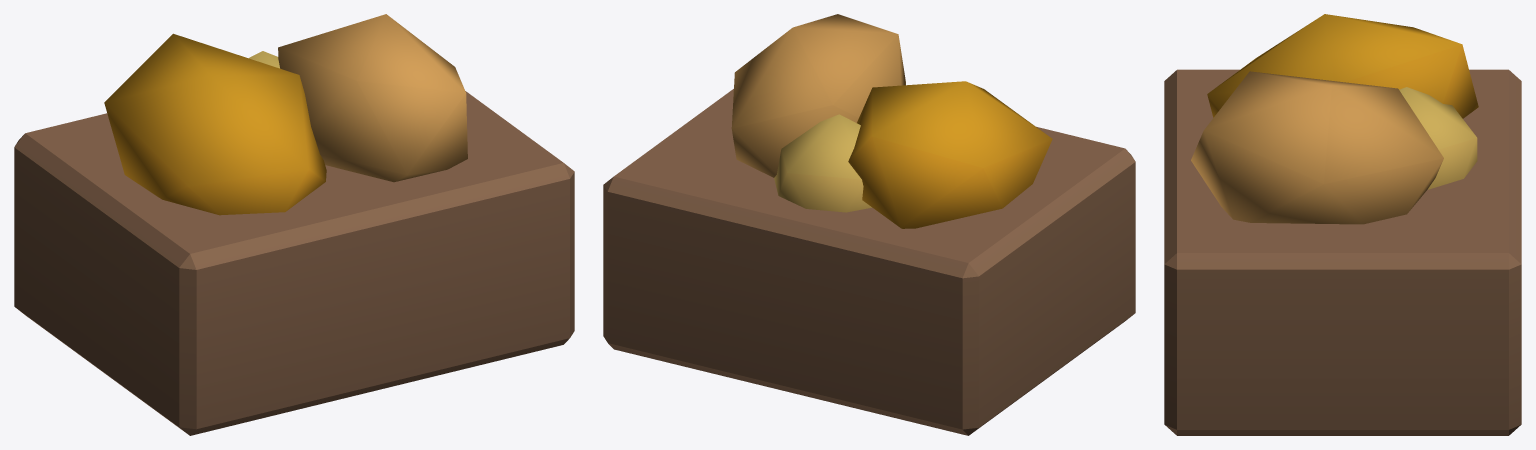
File: bread-crate.glb
The picture shows the model from 3 angles, left to right: view 1: azimuth 30°, elevation 25°; view 2: azimuth 150°, elevation 25°; view 3: azimuth 270°, elevation 25°; orthographic projection. The views are drawn at different scales.
Visible parts, largest first — view 1: bread-crate; view 2: bread-crate; view 3: bread-crate.
Part boxes in pixels (<box>): bread-crate: <box>14,14,574,435</box>; bread-crate: <box>603,14,1135,435</box>; bread-crate: <box>1164,14,1521,435</box>.
Size of the model in its own units: 0.36 by 0.26 by 0.28.
